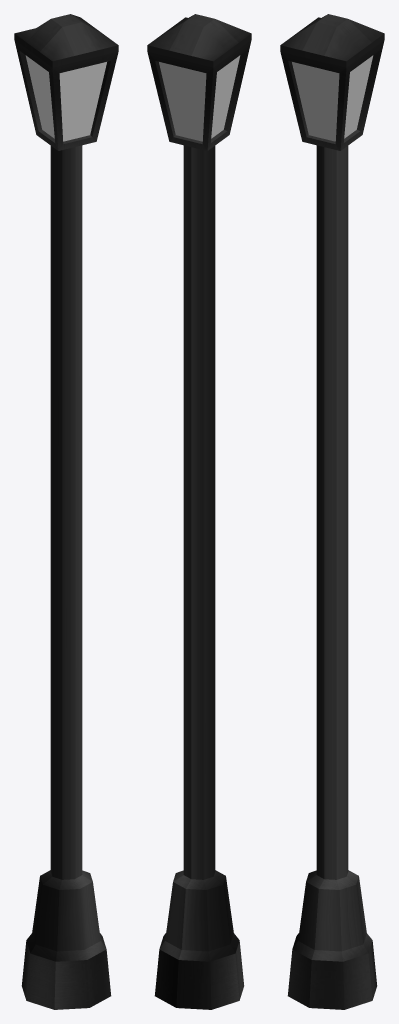
The model's file is PARK_LANTERN.fbx.
The picture shows the model from 3 angles, left to right: view 1: azimuth 30°, elevation 25°; view 2: azimuth 150°, elevation 25°; view 3: azimuth 330°, elevation 25°; orthographic projection.
Parts seen in each view (by area): view 1: PARK_LANTERN; view 2: PARK_LANTERN; view 3: PARK_LANTERN.
Part boxes in pixels (bbox=[...]): PARK_LANTERN: bbox=[14, 14, 118, 1009]; PARK_LANTERN: bbox=[147, 14, 251, 1009]; PARK_LANTERN: bbox=[280, 14, 384, 1009].
Size of the model in its own units: 24.2 by 280 by 24.2.
